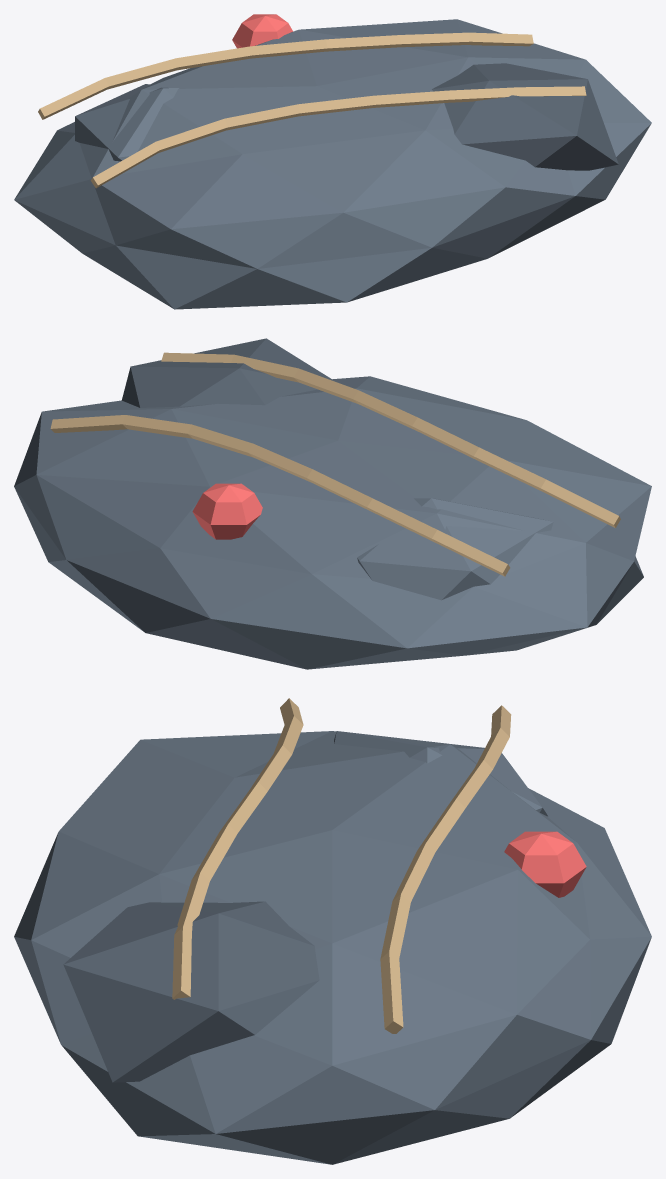
File: fishNet.glb
3 views of the same model, one above another, from view 1: azimuth 30°, elevation 25°; view 2: azimuth 150°, elevation 25°; view 3: azimuth 270°, elevation 25° (orthographic). The views are drawn at different scales.
Visible parts, largest first — view 1: fishNet-m; view 2: fishNet-m; view 3: fishNet-m.
Part boxes in pixels (x1,y1,x2,y2): fishNet-m: (14,14,651,309); fishNet-m: (14,338,651,669); fishNet-m: (14,698,651,1164).
Bounding box in the file's own units: 2.34 × 0.6604 × 1.68.
